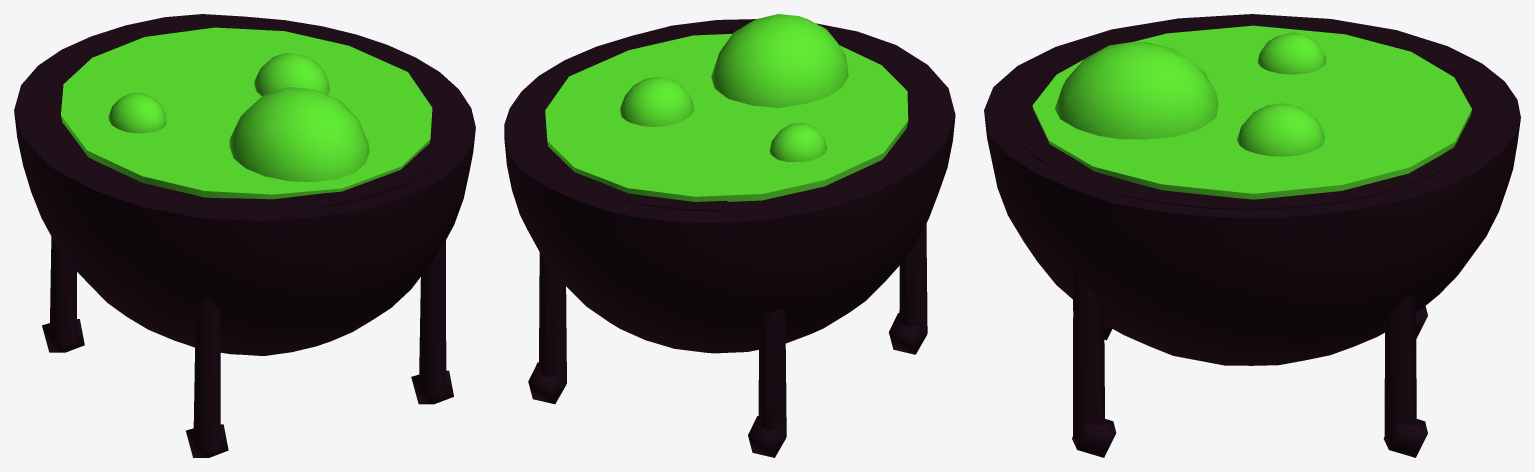
The model's file is cauldron.fbx.
The picture shows the model from 3 angles, left to right: view 1: azimuth 30°, elevation 25°; view 2: azimuth 150°, elevation 25°; view 3: azimuth 270°, elevation 25°; orthographic projection. The views are drawn at different scales.
Visible parts, largest first — view 1: caulron, Sphere002, Sphere003, Sphere004, Sphere005; view 2: caulron, Sphere002, Sphere003, Sphere004, Sphere005; view 3: caulron, Sphere002, Sphere003, Sphere004, Sphere005.
Part boxes in pixels (x1=…): caulron: x1=14, y1=14, x2=475, y2=457; Sphere002: x1=61, y1=27, x2=432, y2=199; Sphere003: x1=229, y1=87, x2=369, y2=182; Sphere004: x1=254, y1=53, x2=329, y2=96; Sphere005: x1=108, y1=92, x2=166, y2=133; caulron: x1=504, y1=19, x2=955, y2=457; Sphere002: x1=545, y1=34, x2=908, y2=201; Sphere003: x1=711, y1=14, x2=848, y2=107; Sphere004: x1=620, y1=76, x2=693, y2=126; Sphere005: x1=769, y1=123, x2=826, y2=161; caulron: x1=984, y1=14, x2=1520, y2=457; Sphere002: x1=1032, y1=25, x2=1471, y2=199; Sphere003: x1=1055, y1=41, x2=1218, y2=139; Sphere004: x1=1237, y1=103, x2=1324, y2=156; Sphere005: x1=1257, y1=32, x2=1325, y2=74.
Bounding box in the file's own units: 8.12 × 6.42 × 9.02.
